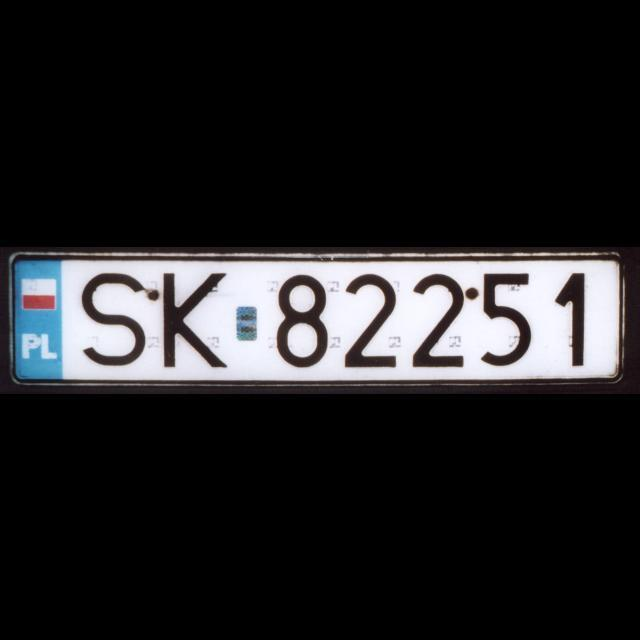license-plates: (0, 249, 640, 393)
